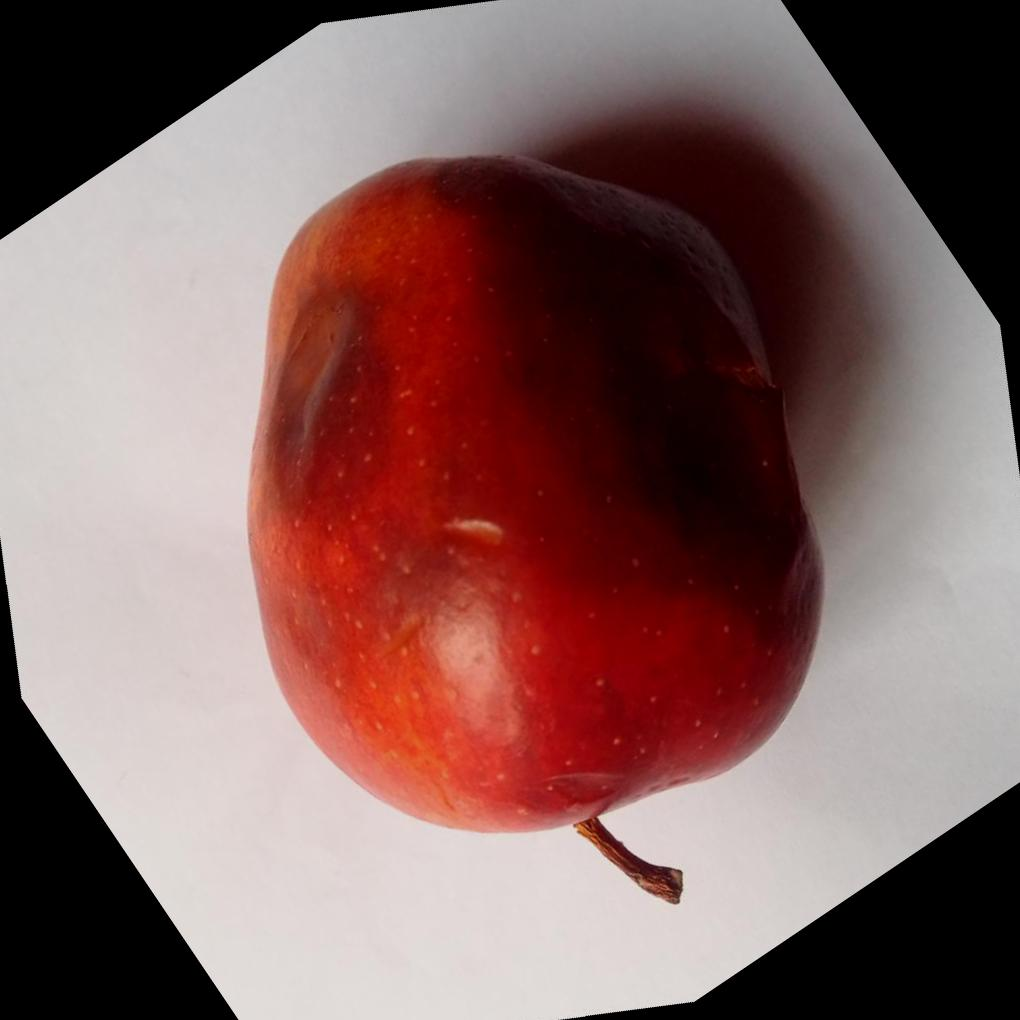FreshOrange: (245, 153, 828, 908)
